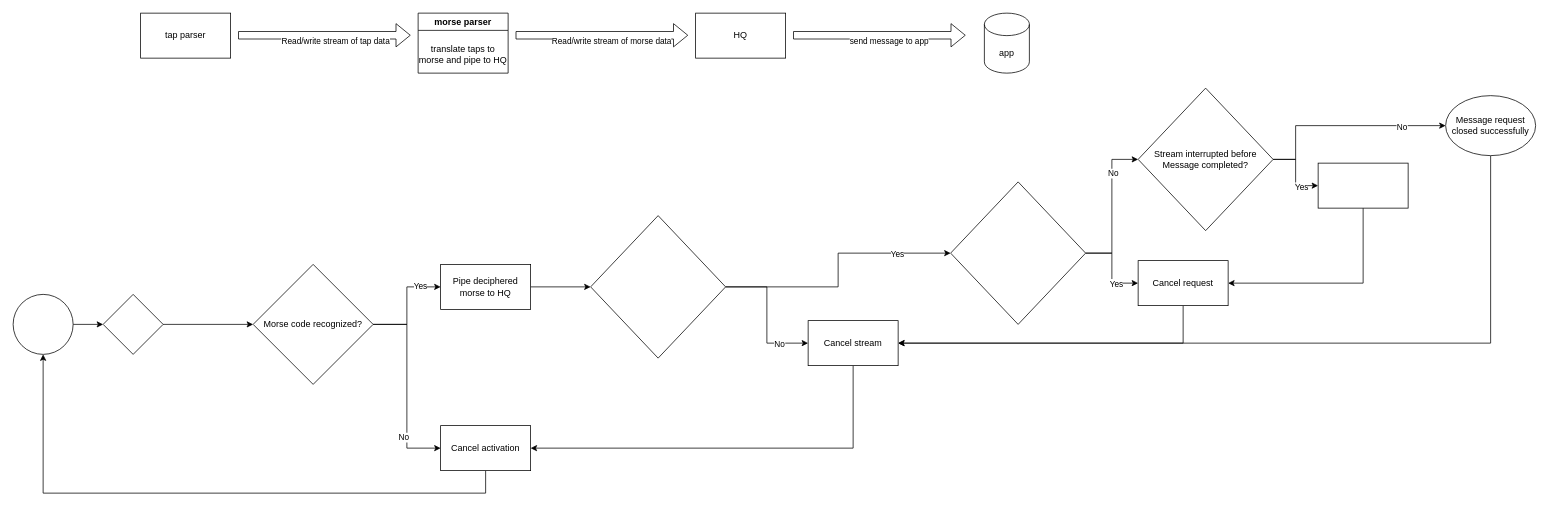
This 1549x512 diagram has some shape labels left out. Here are the shapes that lost their labels. From the top down, the box of each, then its label:
(1317, 162, 1408, 208): Save message
(950, 181, 1086, 324): Stream interrupted before target command completed?
(590, 215, 726, 358): Target command recognized?
(12, 294, 73, 354): Standby
(102, 294, 163, 354): Activate?
